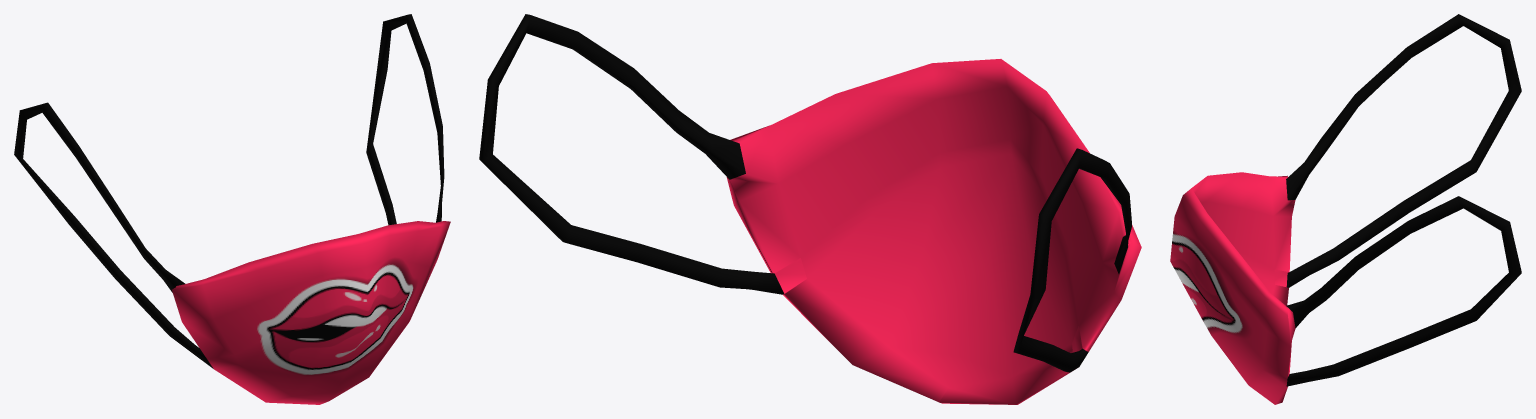
The model's file is protection_mask_hot_mask.glb.
3 views of the same model, side by side, from view 1: azimuth 30°, elevation 25°; view 2: azimuth 150°, elevation 25°; view 3: azimuth 270°, elevation 25° (orthographic). The views are drawn at different scales.
Visible parts, largest first — view 1: protection_mask_hot_mask; view 2: protection_mask_hot_mask; view 3: protection_mask_hot_mask.
Part boxes in pixels (box(x1,y1,x2,y2)): protection_mask_hot_mask: box(14, 14, 450, 404); protection_mask_hot_mask: box(479, 14, 1141, 404); protection_mask_hot_mask: box(1170, 14, 1521, 404).
Size of what is drawn, in the model's own units: 1.05 by 0.7637 by 0.8475.
Materials: 1 (1 with a texture image).
